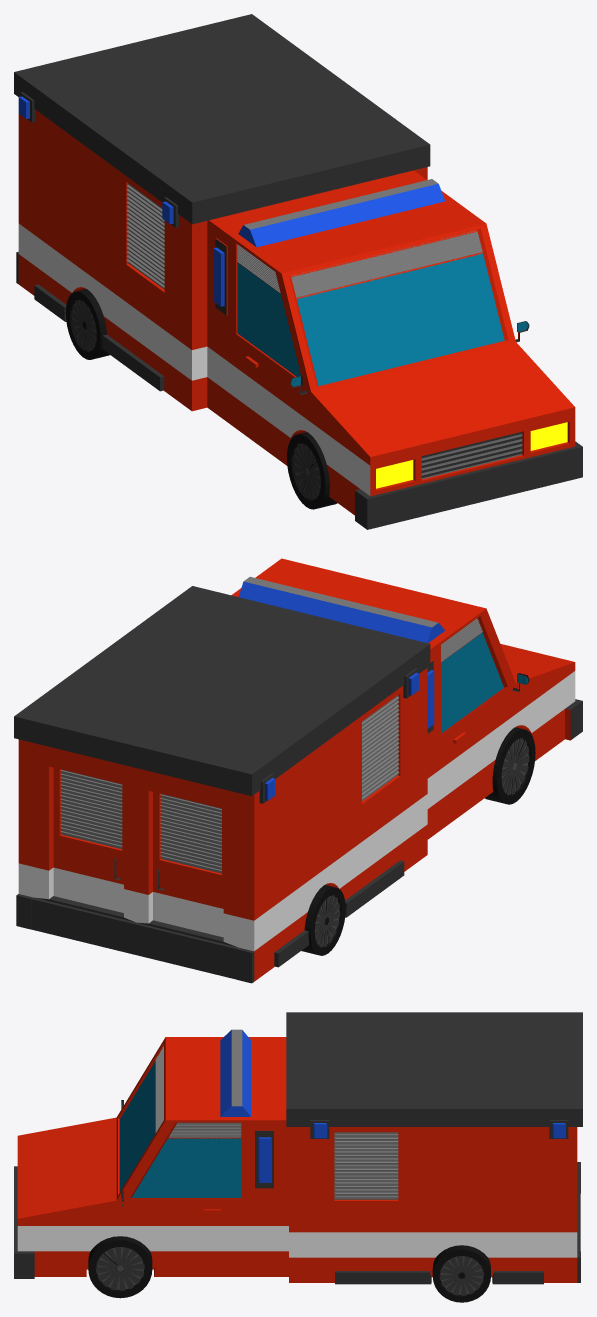
File: lowpoly_ambulance_-_low_poly_free.glb
The picture shows the model from 3 angles, top to bottom: view 1: azimuth 30°, elevation 25°; view 2: azimuth 150°, elevation 25°; view 3: azimuth 270°, elevation 25°; orthographic projection. The views are drawn at different scales.
Parts seen in each view (by area): view 1: Cube, Cylinder.001; view 2: Cube, Cylinder.001; view 3: Cube, Cylinder.001.
Boxes of the visible parts, x1,y1,x2,y2 form: Cube: (14, 14, 582, 529); Cylinder.001: (65, 289, 337, 509); Cube: (14, 558, 582, 983); Cylinder.001: (301, 727, 535, 955); Cube: (14, 1012, 582, 1284); Cylinder.001: (88, 1236, 490, 1302).
Size of the model in its own units: 5.68 by 5.12 by 13.53.
